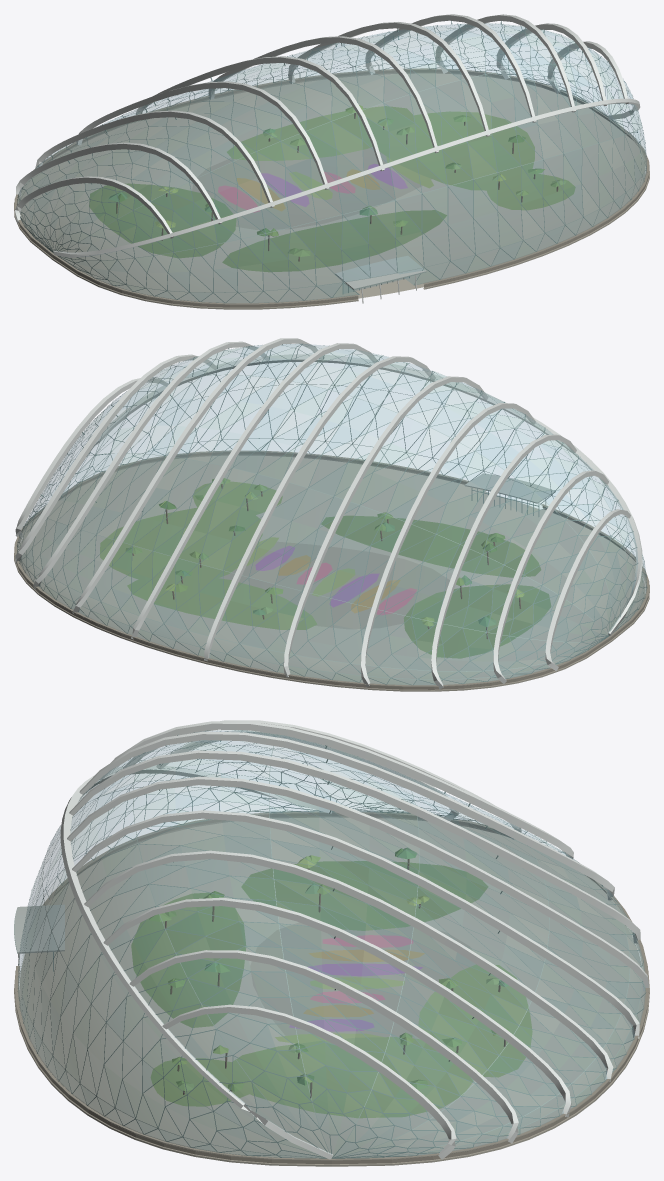
Rendered from sg-flower-dome.glb.
3 views of the same model, one above another, from view 1: azimuth 30°, elevation 25°; view 2: azimuth 150°, elevation 25°; view 3: azimuth 270°, elevation 25° (orthographic). The views are drawn at different scales.
Parts seen in each view (by area): view 1: Glass gridshell panels, Conservatory floor, Flower Field and terraced planting, Radial outer steel arches, Diagonal glazing mullions, Low stone plinth and curb, Primary steel spine, Olive grove and garden trees, Front entrance canopy and columns; view 2: Glass gridshell panels, Conservatory floor, Flower Field and terraced planting, Radial outer steel arches, Diagonal glazing mullions, Low stone plinth and curb, Primary steel spine, Olive grove and garden trees, Front entrance canopy and columns; view 3: Glass gridshell panels, Conservatory floor, Flower Field and terraced planting, Radial outer steel arches, Diagonal glazing mullions, Low stone plinth and curb, Primary steel spine, Olive grove and garden trees, Front entrance canopy and columns.
Part boxes in pixels (<box>): Glass gridshell panels: <box>17,23,646,302</box>; Conservatory floor: <box>19,74,645,302</box>; Flower Field and terraced planting: <box>89,106,575,272</box>; Radial outer steel arches: <box>15,14,628,238</box>; Diagonal glazing mullions: <box>17,23,647,303</box>; Low stone plinth and curb: <box>14,68,649,309</box>; Primary steel spine: <box>53,98,640,257</box>; Olive grove and garden trees: <box>109,105,566,261</box>; Front entrance canopy and columns: <box>335,256,426,303</box>; Glass gridshell panels: <box>17,344,646,684</box>; Conservatory floor: <box>18,456,645,684</box>; Flower Field and terraced planting: <box>100,481,551,658</box>; Radial outer steel arches: <box>15,338,630,689</box>; Diagonal glazing mullions: <box>17,343,647,685</box>; Low stone plinth and curb: <box>14,450,649,691</box>; Primary steel spine: <box>80,354,642,635</box>; Olive grove and garden trees: <box>125,478,524,638</box>; Front entrance canopy and columns: <box>464,473,555,504</box>; Glass gridshell panels: <box>18,730,645,1157</box>; Conservatory floor: <box>19,818,644,1157</box>; Flower Field and terraced planting: <box>131,861,532,1118</box>; Radial outer steel arches: <box>67,720,649,1159</box>; Diagonal glazing mullions: <box>17,730,646,1158</box>; Low stone plinth and curb: <box>14,811,649,1166</box>; Primary steel spine: <box>60,765,332,1159</box>; Olive grove and garden trees: <box>149,847,509,1097</box>; Front entrance canopy and columns: <box>14,904,64,965</box>.
Size of the model in its own units: 130 by 38 by 100.
